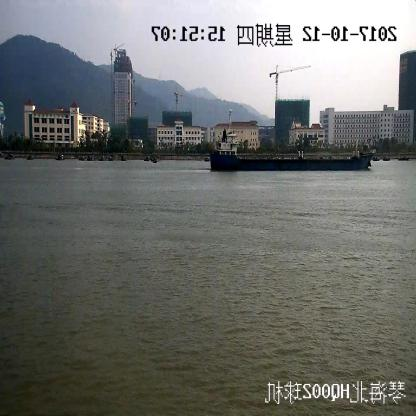Bulk Carrier: (209, 131, 374, 171)
